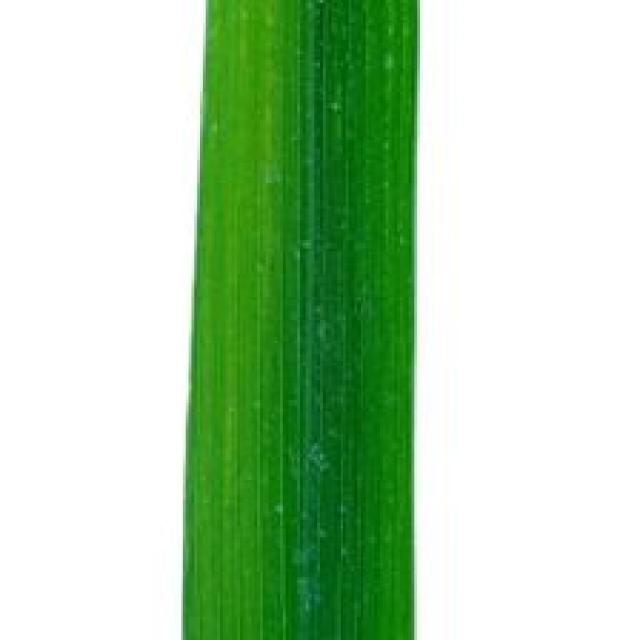Rice___Healthy_Rice_Plant: (181, 0, 420, 637)
